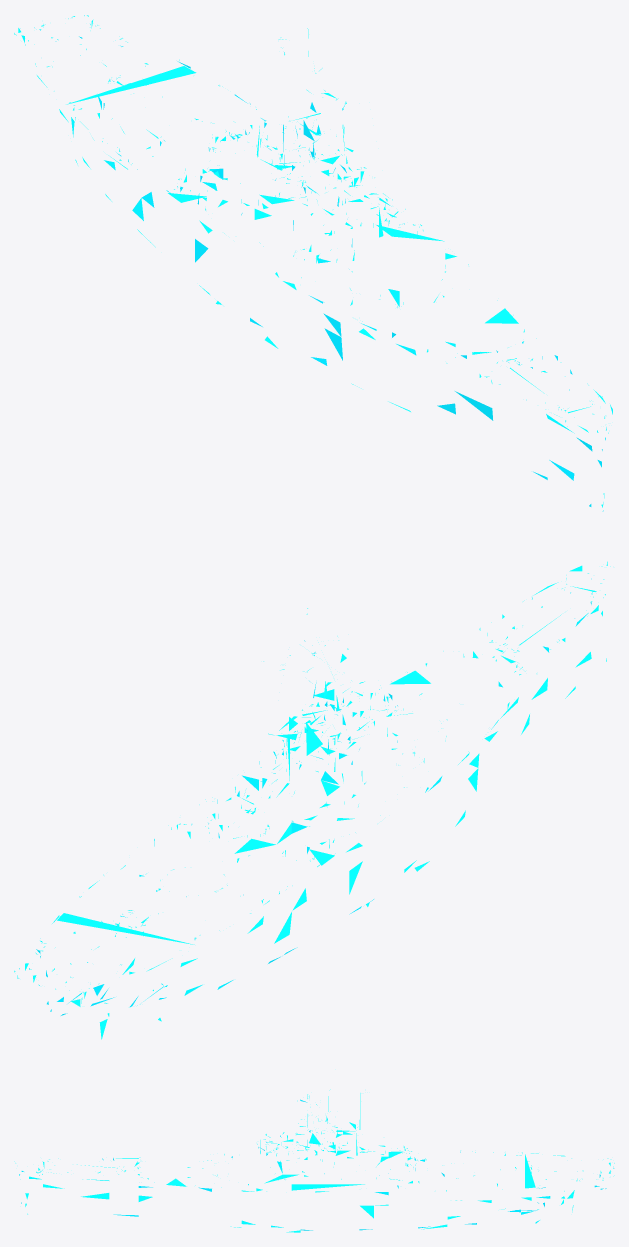
File: Indiana.glb
3 views of the same model, one above another, from view 1: azimuth 30°, elevation 25°; view 2: azimuth 150°, elevation 25°; view 3: azimuth 270°, elevation 25° (orthographic). The views are drawn at different scales.
Size of the model in its own units: 2.19 by 3.66 by 13.83.
